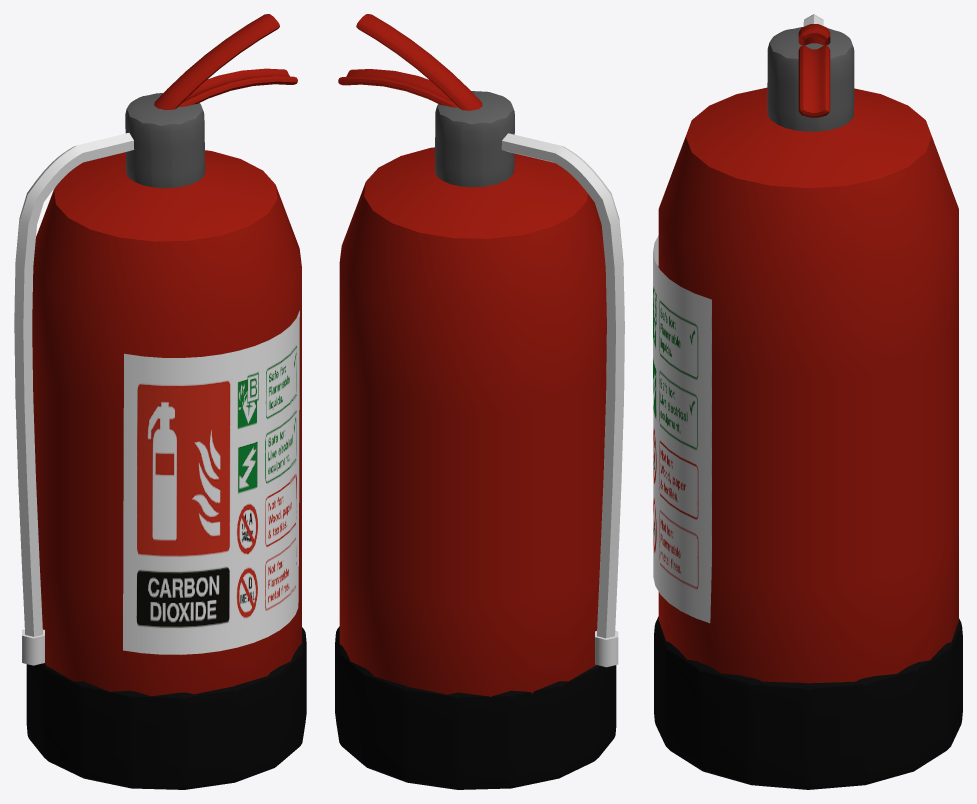
Rendered from Objeto-Schwindt.fbx.
3 renders of one model, left to right at view 1: azimuth 30°, elevation 25°; view 2: azimuth 150°, elevation 25°; view 3: azimuth 270°, elevation 25°, orthographic. The views are drawn at different scales.
Visible parts, largest first — view 1: CilindroMataFuego, Plane001, Base, Manguera, SostieneMangera, Gatillo (×2), Boquilla; view 2: CilindroMataFuego, Base, Manguera, SostieneMangera, Gatillo (×2), Boquilla; view 3: CilindroMataFuego, Base, Plane001, SostieneMangera, Gatillo (×2).
Boxes of the visible parts, x1=… form: CilindroMataFuego: x1=32, y1=150, x2=301, y2=696; Plane001: x1=123, y1=310, x2=299, y2=654; Base: x1=26, y1=627, x2=306, y2=789; Manguera: x1=14, y1=133, x2=134, y2=636; SostieneMangera: x1=125, y1=93, x2=205, y2=188; Gatillo (×2): x1=154, y1=14, x2=297, y2=109; Boquilla: x1=22, y1=629, x2=44, y2=665; CilindroMataFuego: x1=339, y1=147, x2=606, y2=697; Base: x1=335, y1=626, x2=616, y2=789; Manguera: x1=501, y1=133, x2=624, y2=638; SostieneMangera: x1=435, y1=91, x2=514, y2=187; Gatillo (×2): x1=338, y1=14, x2=482, y2=110; Boquilla: x1=595, y1=631, x2=618, y2=667; CilindroMataFuego: x1=658, y1=87, x2=958, y2=683; Base: x1=654, y1=616, x2=962, y2=789; Plane001: x1=653, y1=235, x2=711, y2=623; SostieneMangera: x1=767, y1=27, x2=854, y2=131; Gatillo (×2): x1=798, y1=24, x2=830, y2=117.
Bounding box in the file's own units: 18.5 × 43.73 × 16.26.
Materials: 4 (1 with a texture image).
